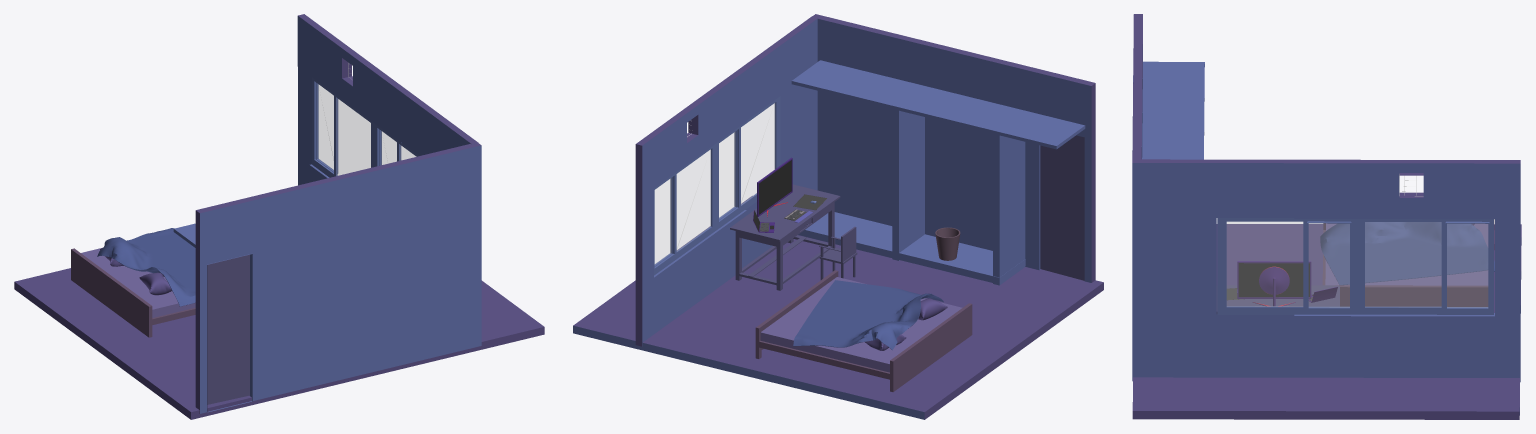
3 views of the same model, side by side, from view 1: azimuth 30°, elevation 25°; view 2: azimuth 150°, elevation 25°; view 3: azimuth 270°, elevation 25° (orthographic). The views are drawn at different scales.
Visible parts, largest first — view 1: bin wall, floor, window_wall, door, bed, window_1, sheet, window_2, pillow_1; view 2: bin wall, floor, window_wall, bed, sheet, door, window_1, window_2, desk, monitor, chair, bin; view 3: window_wall, floor, window_2, window_1, bin wall, sheet, bed, monitor, desk.
Boxes of the visible parts, bbox=[...] form: bin wall: bbox=[173, 143, 481, 413]; floor: bbox=[14, 268, 544, 419]; window_wall: bbox=[297, 14, 478, 185]; door: bbox=[207, 254, 249, 404]; bed: bbox=[71, 248, 195, 337]; window_1: bbox=[312, 77, 374, 177]; sheet: bbox=[97, 228, 195, 306]; window_2: bbox=[375, 124, 418, 166]; pillow_1: bbox=[139, 272, 171, 295]; bin wall: bbox=[791, 14, 1095, 285]; floor: bbox=[573, 195, 1103, 419]; window_wall: bbox=[635, 16, 818, 346]; bed: bbox=[755, 270, 972, 391]; sheet: bbox=[793, 280, 943, 350]; door: bbox=[1040, 135, 1084, 280]; window_1: bbox=[654, 143, 716, 275]; window_2: bbox=[716, 96, 780, 229]; desk: bbox=[730, 184, 840, 290]; monitor: bbox=[757, 157, 792, 216]; chair: bbox=[819, 226, 857, 279]; bin: bbox=[935, 227, 960, 260]; window_wall: bbox=[1139, 159, 1520, 382]; floor: bbox=[1132, 224, 1521, 419]; window_2: bbox=[1217, 218, 1355, 314]; window_1: bbox=[1355, 219, 1493, 314]; bin wall: bbox=[1132, 14, 1204, 381]; sheet: bbox=[1320, 222, 1494, 285]; bed: bbox=[1322, 219, 1494, 306]; monitor: bbox=[1237, 261, 1311, 306]; desk: bbox=[1216, 285, 1339, 313].
Size of the model in its own units: 46.31 by 25.64 by 40.57.
